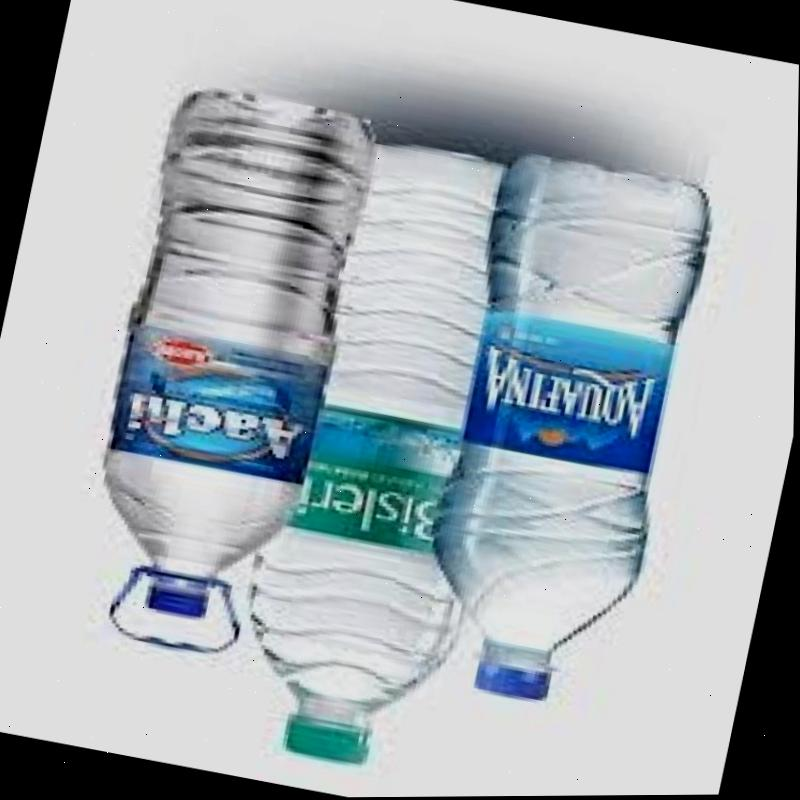botella: (216, 122, 565, 782), (398, 145, 725, 719), (71, 67, 393, 635)
